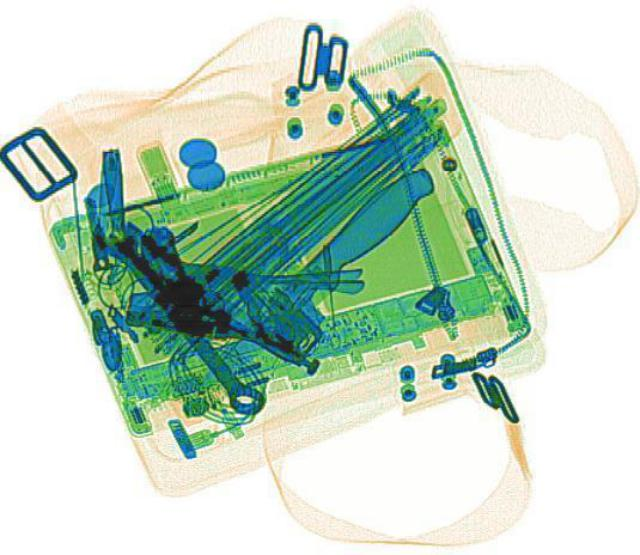Gun: (98, 219, 336, 380)
Knife: (187, 158, 443, 395)
